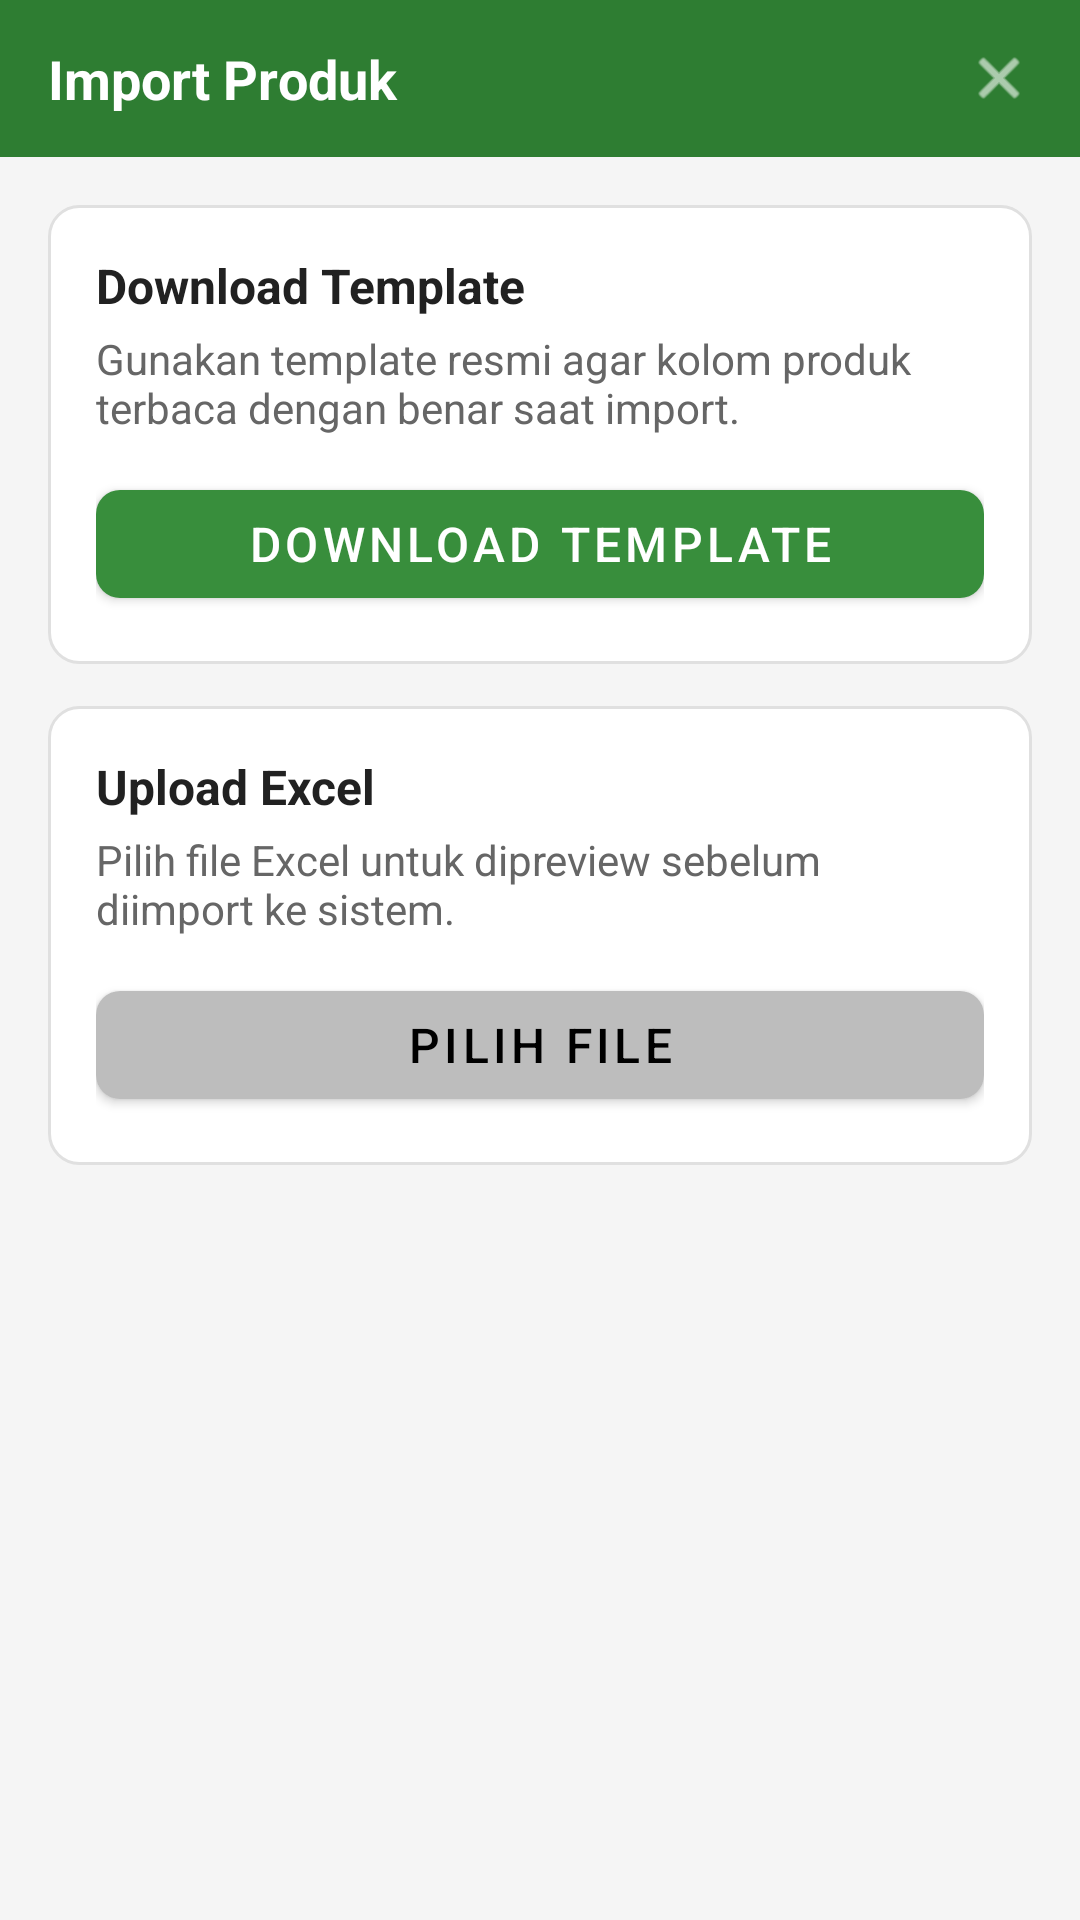

Icons on this 1080px x 1920px Android screen, each with its box as (x1, y1, x2, y2):
close clear cancel: (978, 57, 1020, 99)
